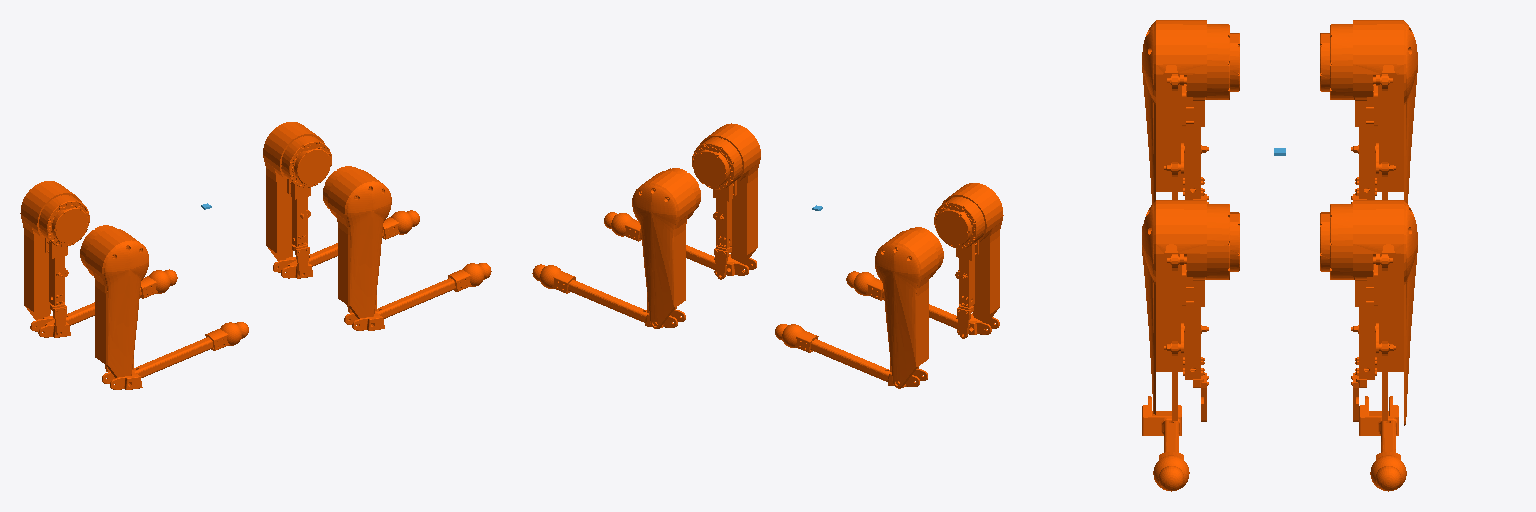
--- Facts derived from the render (not from the file) ---
3 views of the same robot in one strip: view 1: azimuth 30°, elevation 25°; view 2: azimuth 150°, elevation 25°; view 3: azimuth 270°, elevation 25° (orthographic).
Robot: robot — 18 links, 17 joints (12 revolute, 5 fixed); root link base; default pose: all joints at 0 but 4 set to mid-range because 0 is outside their limits (FR_calf_joint = -1.71, FL_calf_joint = -1.71, RR_calf_joint = -1.71, RL_calf_joint = -1.71).
Links seen in each view (by area): view 1: RR_thigh, FL_thigh, FR_thigh, RL_thigh, FR_calf, RR_calf, FL_calf, RL_calf; view 2: RL_thigh, FL_thigh, FR_thigh, RR_thigh, FL_calf, RL_calf, FR_calf, RR_calf; view 3: FL_thigh, FR_thigh, RR_thigh, RL_thigh, FL_calf, FR_calf.
Boxes of the visible links, x1=… form: RR_thigh: x1=80, y1=225, x2=148, y2=377; FL_thigh: x1=263, y1=122, x2=331, y2=277; FR_thigh: x1=323, y1=166, x2=391, y2=318; RL_thigh: x1=20, y1=181, x2=89, y2=336; FR_calf: x1=344, y1=263, x2=483, y2=330; RR_calf: x1=102, y1=322, x2=241, y2=389; FL_calf: x1=273, y1=211, x2=412, y2=278; RL_calf: x1=30, y1=270, x2=170, y2=337; RL_thigh: x1=875, y1=227, x2=943, y2=388; FL_thigh: x1=632, y1=168, x2=700, y2=328; FR_thigh: x1=692, y1=123, x2=760, y2=279; RR_thigh: x1=934, y1=183, x2=1003, y2=338; FL_calf: x1=540, y1=265, x2=685, y2=327; RL_calf: x1=782, y1=324, x2=927, y2=387; FR_calf: x1=611, y1=213, x2=756, y2=275; RR_calf: x1=853, y1=272, x2=999, y2=334; FL_thigh: x1=1320, y1=200, x2=1417, y2=425; FR_thigh: x1=1142, y1=200, x2=1239, y2=421; RR_thigh: x1=1142, y1=20, x2=1239, y2=203; RL_thigh: x1=1320, y1=20, x2=1417, y2=203; FL_calf: x1=1359, y1=396, x2=1406, y2=489; FR_calf: x1=1142, y1=396, x2=1189, y2=489.
Size in the robot's own frame: 0.8762 by 0.3506 by 0.3193 metres.
8 mesh visuals loaded from 5 distinct referenced files (3 Collada DAE); not drawn: 5 (reference not matched to a file when rendering).

The robot description file, URDF, robot "robot":
<?xml version="1.0" ?>
<!-- =================================================================================== -->
<!-- |    This document was autogenerated by xacro from ../robots/quadrupedal_robot/arcdog.xacro | -->
<!-- |    EDITING THIS FILE BY HAND IS NOT RECOMMENDED                                 | -->
<!-- =================================================================================== -->
<robot name="robot">
  <material name="black">
    <color rgba="0.0 0.0 0.0 1.0"/>
  </material>
  <material name="blue">
    <color rgba="0.0 0.0 0.8 1.0"/>
  </material>
  <material name="green">
    <color rgba="0.0 0.8 0.0 1.0"/>
  </material>
  <material name="grey">
    <color rgba="0.2 0.2 0.2 1.0"/>
  </material>
  <material name="silver">
    <color rgba="0.9137254901960784 0.9137254901960784 0.8470588235294118 1.0"/>
  </material>
  <material name="orange">
    <color rgba="1.0 0.4235294117647059 0.0392156862745098 1.0"/>
  </material>
  <material name="brown">
    <color rgba="0.8705882352941177 0.8117647058823529 0.7647058823529411 1.0"/>
  </material>
  <material name="red">
    <color rgba="0.8 0.0 0.0 1.0"/>
  </material>
  <material name="white">
    <color rgba="1.0 1.0 1.0 1.0"/>
  </material>
  <!-- ros_control plugin -->
  <gazebo>
    <plugin filename="libarcdog_hw_sim.so" name="gazebo_ros_control">
      <robotNamespace>/</robotNamespace>
      <robotParam>legged_robot_description</robotParam>
      <robotSimType>arcdog_sim/ArcdogHWSim</robotSimType>
    </plugin>
  </gazebo>
  <gazebo>
    <plugin filename="libgazebo_ros_p3d.so" name="p3d_base_controller">
      <alwaysOn>true</alwaysOn>
      <updateRate>1000.0</updateRate>
      <bodyName>base</bodyName>
      <topicName>ground_truth/state</topicName>
      <gaussianNoise>0</gaussianNoise>
      <frameName>world</frameName>
      <xyzOffsets>0 0 0</xyzOffsets>
      <rpyOffsets>0 0 0</rpyOffsets>
    </plugin>
  </gazebo>
   //TODO
    
   //TODO
    
   //TODO
    
   //TODO

    
   //TODO
    
   //TODO
    
   //TODO
    
   //TODO
    
   //TODO
    
   //TODO

    
   //TODO
    
   //TODO
    
   //TODO

    
  <link name="base">
    <visual>
      <origin rpy="0 0 0" xyz="0 0 0"/>
      <geometry>
        <mesh filename="../meshes/trunk.dae" scale="1 1 1"/>
      </geometry>
    </visual>
    <collision>
      <origin rpy="0 0 0" xyz="0 0 0"/>
      <geometry>
        <box size="0.552 0.121 0.116"/>
      </geometry>
    </collision>
    <inertial>
      <origin rpy="0 0 0" xyz="0.00575 0.00126 -0.00469"/>
      <mass value="7.021"/>
      <inertia ixx="0.03769023916" ixy="1.433761e-05" ixz="0.00051349975" iyy="0.05008788073" iyz="0.00015851764" izz="0.07146322696"/>
    </inertial>
  </link>
  <!-- Imu is fixed to the base link -->
  <joint name="unitree_imu_joint" type="fixed">
    <origin rpy="0. 0. 0." xyz="0. 0. 0."/>
    <parent link="base"/>
    <child link="unitree_imu"/>
  </joint>
  <!-- Imu link -->
  <link name="unitree_imu">
    <inertial>
      <mass value="0.01"/>
      <origin rpy="0 0 0" xyz="0 0 0"/>
      <inertia ixx="0.000001" ixy="0" ixz="0" iyy="0.000001" iyz="0" izz="0.000001"/>
    </inertial>
    <visual>
      <origin rpy="0 0 0" xyz="0 0 0"/>
      <geometry>
        <box size="0.015 0.015 0.004"/>
      </geometry>
    </visual>
    <material name="orange">
      <color rgba="255 108 10 255"/>
    </material>
  </link>
  <gazebo reference="unitree_imu">
    <material>Gazebo/Orange</material>
  </gazebo>
  <gazebo reference="unitree_imu_joint">
    <disableFixedJointLumping>true</disableFixedJointLumping>
  </gazebo>
  <joint name="FR_hip_joint" type="revolute">
    <origin rpy="0 0 0" xyz="0.27 -0.051 0"/>
    <parent link="base"/>
    <child link="FR_hip"/>
    <axis xyz="1 0 0"/>
    <dynamics damping="0.05" friction="0.01"/>
    <limit effort="35.278" lower="-1.2217304763960306" upper="1.2217304763960306" velocity="20"/>
  </joint>
  <link name="FR_hip">
    <visual>
      <origin rpy="3.141592653589793 0 0" xyz="0 0 0"/>
      <geometry>
        <mesh filename="../meshes/hip.dae" scale="1 1 1"/>
      </geometry>
      <material name="orange"/>
    </visual>
    <collision>
      <origin rpy="1.5707963267948966 0 0" xyz="0 0 0"/>
      <geometry>
        <cylinder length="0.001" radius="0.046"/>
      </geometry>
    </collision>
    <inertial>
      <origin rpy="0 0 0" xyz="-0.00758 0.00359 -0.00029"/>
      <mass value="1.162"/>
      <inertia ixx="0.00095157705" ixy="-1.10967e-05" ixz="-2.66665e-06" iyy="0.00159323348" iyz="1.26718e-05" izz="0.00125451931"/>
    </inertial>
  </link>
  <joint name="FR_thigh_joint" type="revolute">
    <origin rpy="0 0 0" xyz="0 -0.0868 0"/>
    <parent link="FR_hip"/>
    <child link="FR_thigh"/>
    <axis xyz="0 1 0"/>
    <dynamics damping="0.05" friction="0.01"/>
    <limit effort="35.278" lower="-1e+22" upper="1e+22" velocity="20"/>
  </joint>
  <link name="FR_thigh">
    <visual>
      <origin rpy="0 0 0" xyz="0 0 0"/>
      <geometry>
        <mesh filename="../meshes/thigh_mirror.dae" scale="1 1 1"/>
      </geometry>
      <material name="orange"/>
    </visual>
    <collision>
      <origin rpy="0 1.6707963267948966 0" xyz="-0.015 0 -0.12225"/>
      <geometry>
        <box size="0.2445 0.062 0.043"/>
      </geometry>
    </collision>
    <collision>
      <origin rpy="1.5707963267948966 0 0" xyz="0 -0.0 0"/>
      <geometry>
        <cylinder length="0.03" radius="0.044"/>
      </geometry>
    </collision>
    <inertial>
      <origin rpy="0 0 0" xyz="0.00033 -0.03334 -0.02983"/>
      <mass value="1.528"/>
      <inertia ixx="0.00884041519" ixy="3.381758e-05" ixz="-5.33686e-05" iyy="0.00784145389" iyz="-0.00128350622" izz="0.0026004502"/>
    </inertial>
  </link>
  <joint name="FR_calf_joint" type="revolute">
    <origin rpy="0 0 0" xyz="0 0 -0.2445"/>
    <parent link="FR_thigh"/>
    <child link="FR_calf"/>
    <axis xyz="0 1 0"/>
    <dynamics damping="0.05" friction="0.01"/>
    <limit effort="44.4" lower="-2.775073510670984" upper="-0.6457718232379019" velocity="15.89"/>
  </joint>
  <link name="FR_calf">
    <visual>
      <origin rpy="0 0 0" xyz="0 0 0"/>
      <geometry>
        <mesh filename="../meshes/calf.dae" scale="1 1 1"/>
      </geometry>
      <material name="orange"/>
    </visual>
    <collision>
      <origin rpy="0 1.5707963267948966 0" xyz="0.008 0 -0.13475"/>
      <geometry>
        <box size="0.2695 0.05 0.03"/>
      </geometry>
    </collision>
    <inertial>
      <origin rpy="0 0 0" xyz="0.0016 0.00438 -0.12232"/>
      <mass value="0.132"/>
      <inertia ixx="0.00228050753" ixy="-3.3551e-07" ixz="8.26635e-06" iyy="0.00225891907" iyz="0.00010727008" izz="5.160443e-05"/>
    </inertial>
  </link>
  <joint dont_collapse="true" name="FR_foot_fixed" type="fixed">
    <origin rpy="0 0 0" xyz="0 0 -0.2695"/>
    <parent link="FR_calf"/>
    <child link="FR_foot"/>
  </joint>
  <link name="FR_foot">
    <visual>
      <origin rpy="0 0 0" xyz="0 0 0"/>
      <geometry>
        <sphere radius="0.0165"/>
      </geometry>
      <material name="orange"/>
    </visual>
    <collision>
      <origin rpy="0 0 0" xyz="0 0 0"/>
      <geometry>
        <sphere radius="0.0265"/>
      </geometry>
    </collision>
    <inertial>
      <mass value="0.06"/>
      <inertia ixx="1.6853999999999998e-05" ixy="0.0" ixz="0.0" iyy="1.6853999999999998e-05" iyz="0.0" izz="1.6853999999999998e-05"/>
    </inertial>
  </link>
  <gazebo reference="FR_foot_fixed">
    <disableFixedJointLumping>true</disableFixedJointLumping>
  </gazebo>
  <gazebo reference="FR_hip">
    <mu1>0.2</mu1>
    <mu2>0.2</mu2>
    <material>Gazebo/DarkGrey</material>
  </gazebo>
  <gazebo reference="FR_thigh">
    <mu1>0.2</mu1>
    <mu2>0.2</mu2>
    <self_collide>0</self_collide>
    <material>Gazebo/DarkGrey</material>
    <kp value="1000000.0"/>
    <kd value="100.0"/>
  </gazebo>
  <gazebo reference="FR_calf">
    <mu1>0.6</mu1>
    <mu2>0.6</mu2>
    <self_collide>1</self_collide>
  </gazebo>
  <gazebo reference="FR_FOOT">
    <mu1>0.6</mu1>
    <mu2>0.6</mu2>
    <self_collide>1</self_collide>
    <material>Gazebo/DarkGrey</material>
    <kp value="1000000.0"/>
    <kd value="100.0"/>
  </gazebo>
  <transmission name="FR_HAA_tran">
    <type>transmission_interface/SimpleTransmission</type>
    <joint name="FR_HAA">
      <hardwareInterface>hardware_interface/EffortJointInterface</hardwareInterface>
    </joint>
    <actuator name="FR_HAA_motor">
      <hardwareInterface>hardware_interface/EffortJointInterface</hardwareInterface>
      <mechanicalReduction>1</mechanicalReduction>
    </actuator>
  </transmission>
  <transmission name="FR_HFE_tran">
    <type>transmission_interface/SimpleTransmission</type>
    <joint name="FR_HFE">
      <hardwareInterface>hardware_interface/EffortJointInterface</hardwareInterface>
    </joint>
    <actuator name="FR_HFE_motor">
      <hardwareInterface>hardware_interface/EffortJointInterface</hardwareInterface>
      <mechanicalReduction>1</mechanicalReduction>
    </actuator>
  </transmission>
  <transmission name="FR_KFE_tran">
    <type>transmission_interface/SimpleTransmission</type>
    <joint name="FR_KFE">
      <hardwareInterface>hardware_interface/EffortJointInterface</hardwareInterface>
    </joint>
    <actuator name="FR_KFE_motor">
      <hardwareInterface>hardware_interface/EffortJointInterface</hardwareInterface>
      <mechanicalReduction>1</mechanicalReduction>
    </actuator>
  </transmission>
  <joint name="FL_hip_joint" type="revolute">
    <origin rpy="0 0 0" xyz="0.27 0.051 0"/>
    <parent link="base"/>
    <child link="FL_hip"/>
    <axis xyz="1 0 0"/>
    <dynamics damping="0.05" friction="0.01"/>
    <limit effort="35.278" lower="-1.2217304763960306" upper="1.2217304763960306" velocity="20"/>
  </joint>
  <link name="FL_hip">
    <visual>
      <origin rpy="0 0 0" xyz="0 0 0"/>
      <geometry>
        <mesh filename="../meshes/hip.dae" scale="1 1 1"/>
      </geometry>
      <material name="orange"/>
    </visual>
    <collision>
      <origin rpy="1.5707963267948966 0 0" xyz="0 0 0"/>
      <geometry>
        <cylinder length="0.001" radius="0.046"/>
      </geometry>
    </collision>
    <inertial>
      <origin rpy="0 0 0" xyz="-0.00758 -0.00359 -0.00029"/>
      <mass value="1.162"/>
      <inertia ixx="0.00095157705" ixy="1.10967e-05" ixz="-2.66665e-06" iyy="0.00159323348" iyz="-1.26718e-05" izz="0.00125451931"/>
    </inertial>
  </link>
  <joint name="FL_thigh_joint" type="revolute">
    <origin rpy="0 0 0" xyz="0 0.0868 0"/>
    <parent link="FL_hip"/>
    <child link="FL_thigh"/>
    <axis xyz="0 1 0"/>
    <dynamics damping="0.05" friction="0.01"/>
    <limit effort="35.278" lower="-1e+22" upper="1e+22" velocity="20"/>
  </joint>
  <link name="FL_thigh">
    <visual>
      <origin rpy="0 0 0" xyz="0 0 0"/>
      <geometry>
        <mesh filename="../meshes/thigh.dae" scale="1 1 1"/>
      </geometry>
      <material name="orange"/>
    </visual>
    <collision>
      <origin rpy="0 1.6707963267948966 0" xyz="-0.015 0 -0.12225"/>
      <geometry>
        <box size="0.2445 0.062 0.043"/>
      </geometry>
    </collision>
    <collision>
      <origin rpy="1.5707963267948966 0 0" xyz="0 0.0 0"/>
      <geometry>
        <cylinder length="0.03" radius="0.044"/>
      </geometry>
    </collision>
    <inertial>
      <origin rpy="0 0 0" xyz="0.00033 0.03334 -0.02983"/>
      <mass value="1.528"/>
      <inertia ixx="0.00884041519" ixy="-3.381758e-05" ixz="-5.33686e-05" iyy="0.00784145389" iyz="0.00128350622" izz="0.0026004502"/>
    </inertial>
  </link>
  <joint name="FL_calf_joint" type="revolute">
    <origin rpy="0 0 0" xyz="0 0 -0.2445"/>
    <parent link="FL_thigh"/>
    <child link="FL_calf"/>
    <axis xyz="0 1 0"/>
    <dynamics damping="0.05" friction="0.01"/>
    <limit effort="44.4" lower="-2.775073510670984" upper="-0.6457718232379019" velocity="15.89"/>
  </joint>
  <link name="FL_calf">
    <visual>
      <origin rpy="0 0 0" xyz="0 0 0"/>
      <geometry>
        <mesh filename="../meshes/calf.dae" scale="1 1 1"/>
      </geometry>
      <material name="orange"/>
    </visual>
    <collision>
      <origin rpy="0 1.5707963267948966 0" xyz="0.008 0 -0.13475"/>
      <geometry>
        <box size="0.2695 0.05 0.03"/>
      </geometry>
    </collision>
    <inertial>
      <origin rpy="0 0 0" xyz="0.0016 0.00438 -0.12232"/>
      <mass value="0.132"/>
      <inertia ixx="0.00228050753" ixy="-3.3551e-07" ixz="8.26635e-06" iyy="0.00225891907" iyz="0.00010727008" izz="5.160443e-05"/>
    </inertial>
  </link>
  <joint dont_collapse="true" name="FL_foot_fixed" type="fixed">
    <origin rpy="0 0 0" xyz="0 0 -0.2695"/>
    <parent link="FL_calf"/>
    <child link="FL_foot"/>
  </joint>
  <link name="FL_foot">
    <visual>
      <origin rpy="0 0 0" xyz="0 0 0"/>
      <geometry>
        <sphere radius="0.0165"/>
      </geometry>
      <material name="orange"/>
    </visual>
    <collision>
      <origin rpy="0 0 0" xyz="0 0 0"/>
      <geometry>
        <sphere radius="0.0265"/>
      </geometry>
    </collision>
    <inertial>
      <mass value="0.06"/>
      <inertia ixx="1.6853999999999998e-05" ixy="0.0" ixz="0.0" iyy="1.6853999999999998e-05" iyz="0.0" izz="1.6853999999999998e-05"/>
    </inertial>
  </link>
  <gazebo reference="FL_foot_fixed">
    <disableFixedJointLumping>true</disableFixedJointLumping>
  </gazebo>
  <gazebo reference="FL_hip">
    <mu1>0.2</mu1>
    <mu2>0.2</mu2>
    <material>Gazebo/DarkGrey</material>
  </gazebo>
  <gazebo reference="FL_thigh">
    <mu1>0.2</mu1>
    <mu2>0.2</mu2>
    <self_collide>0</self_collide>
    <material>Gazebo/DarkGrey</material>
    <kp value="1000000.0"/>
    <kd value="100.0"/>
  </gazebo>
  <gazebo reference="FL_calf">
    <mu1>0.6</mu1>
    <mu2>0.6</mu2>
    <self_collide>1</self_collide>
  </gazebo>
  <gazebo reference="FL_FOOT">
    <mu1>0.6</mu1>
    <mu2>0.6</mu2>
    <self_collide>1</self_collide>
    <material>Gazebo/DarkGrey</material>
    <kp value="1000000.0"/>
    <kd value="100.0"/>
  </gazebo>
  <transmission name="FL_HAA_tran">
    <type>transmission_interface/SimpleTransmission</type>
    <joint name="FL_HAA">
      <hardwareInterface>hardware_interface/EffortJointInterface</hardwareInterface>
    </joint>
    <actuator name="FL_HAA_motor">
      <hardwareInterface>hardware_interface/EffortJointInterface</hardwareInterface>
      <mechanicalReduction>1</mechanicalReduction>
    </actuator>
  </transmission>
  <transmission name="FL_HFE_tran">
    <type>transmission_interface/SimpleTransmission</type>
    <joint name="FL_HFE">
      <hardwareInterface>hardware_interface/EffortJointInterface</hardwareInterface>
    </joint>
    <actuator name="FL_HFE_motor">
      <hardwareInterface>hardware_interface/EffortJointInterface</hardwareInterface>
      <mechanicalReduction>1</mechanicalReduction>
    </actuator>
  </transmission>
  <transmission name="FL_KFE_tran">
    <type>transmission_interface/SimpleTransmission</type>
    <joint name="FL_KFE">
      <hardwareInterface>hardware_interface/EffortJointInterface</hardwareInterface>
    </joint>
    <actuator name="FL_KFE_motor">
      <hardwareInterface>hardware_interface/EffortJointInterface</hardwareInterface>
      <mechanicalReduction>1</mechanicalReduction>
    </actuator>
  </transmission>
  <joint name="RR_hip_joint" type="revolute">
    <origin rpy="0 0 0" xyz="-0.27 -0.051 0"/>
    <parent link="base"/>
    <child link="RR_hip"/>
    <axis xyz="1 0 0"/>
    <dynamics damping="0.05" friction="0.01"/>
    <limit effort="35.278" lower="-1.2217304763960306" upper="1.2217304763960306" velocity="20"/>
  </joint>
  <link name="RR_hip">
    <visual>
      <origin rpy="3.141592653589793 3.141592653589793 0" xyz="0 0 0"/>
      <geometry>
        <mesh filename="../meshes/hip.dae" scale="1 1 1"/>
      </geometry>
      <material name="orange"/>
    </visual>
    <collision>
      <origin rpy="1.5707963267948966 0 0" xyz="0 0 0"/>
      <geometry>
        <cylinder length="0.001" radius="0.046"/>
      </geometry>
    </collision>
    <inertial>
      <origin rpy="0 0 0" xyz="0.00758 0.00359 -0.00029"/>
      <mass value="1.162"/>
      <inertia ixx="0.00095157705" ixy="1.10967e-05" ixz="2.66665e-06" iyy="0.00159323348" iyz="1.26718e-05" izz="0.00125451931"/>
    </inertial>
  </link>
  <joint name="RR_thigh_joint" type="revolute">
    <origin rpy="0 0 0" xyz="0 -0.0868 0"/>
    <parent link="RR_hip"/>
    <child link="RR_thigh"/>
    <axis xyz="0 1 0"/>
    <dynamics damping="0.05" friction="0.01"/>
    <limit effort="35.278" lower="-1e+22" upper="1e+22" velocity="20"/>
  </joint>
  <link name="RR_thigh">
    <visual>
      <origin rpy="0 0 0" xyz="0 0 0"/>
      <geometry>
        <mesh filename="../meshes/thigh_mirror.dae" scale="1 1 1"/>
      </geometry>
      <material name="orange"/>
    </visual>
    <collision>
      <origin rpy="0 1.6707963267948966 0" xyz="-0.015 0 -0.12225"/>
      <geometry>
        <box size="0.2445 0.062 0.043"/>
      </geometry>
    </collision>
    <collision>
      <origin rpy="1.5707963267948966 0 0" xyz="0 -0.0 0"/>
      <geometry>
        <cylinder length="0.03" radius="0.044"/>
      </geometry>
    </collision>
    <inertial>
      <origin rpy="0 0 0" xyz="0.00033 -0.03334 -0.02983"/>
      <mass value="1.528"/>
      <inertia ixx="0.00884041519" ixy="3.381758e-05" ixz="-5.33686e-05" iyy="0.00784145389" iyz="-0.00128350622" izz="0.0026004502"/>
    </inertial>
  </link>
  <joint name="RR_calf_joint" type="revolute">
    <origin rpy="0 0 0" xyz="0 0 -0.2445"/>
    <parent link="RR_thigh"/>
    <child link="RR_calf"/>
    <axis xyz="0 1 0"/>
    <dynamics damping="0.05" friction="0.01"/>
    <limit effort="44.4" lower="-2.775073510670984" upper="-0.6457718232379019" velocity="15.89"/>
  </joint>
  <link name="RR_calf">
    <visual>
      <origin rpy="0 0 0" xyz="0 0 0"/>
      <geometry>
        <mesh filename="../meshes/calf.dae" scale="1 1 1"/>
      </geometry>
      <material name="orange"/>
    </visual>
    <collision>
      <origin rpy="0 1.5707963267948966 0" xyz="0.008 0 -0.13475"/>
      <geometry>
        <box size="0.2695 0.05 0.03"/>
      </geometry>
    </collision>
    <inertial>
      <origin rpy="0 0 0" xyz="0.0016 0.00438 -0.12232"/>
      <mass value="0.132"/>
      <inertia ixx="0.00228050753" ixy="-3.3551e-07" ixz="8.26635e-06" iyy="0.00225891907" iyz="0.00010727008" izz="5.160443e-05"/>
    </inertial>
  </link>
  <joint dont_collapse="true" name="RR_foot_fixed" type="fixed">
    <origin rpy="0 0 0" xyz="0 0 -0.2695"/>
    <parent link="RR_calf"/>
    <child link="RR_foot"/>
  </joint>
  <link name="RR_foot">
    <visual>
      <origin rpy="0 0 0" xyz="0 0 0"/>
      <geometry>
        <sphere radius="0.0165"/>
      </geometry>
      <material name="orange"/>
    </visual>
    <collision>
      <origin rpy="0 0 0" xyz="0 0 0"/>
      <geometry>
        <sphere radius="0.0265"/>
      </geometry>
    </collision>
    <inertial>
      <mass value="0.06"/>
      <inertia ixx="1.6853999999999998e-05" ixy="0.0" ixz="0.0" iyy="1.6853999999999998e-05" iyz="0.0" izz="1.6853999999999998e-05"/>
    </inertial>
  </link>
  <gazebo reference="RR_foot_fixed">
    <disableFixedJointLumping>true</disableFixedJointLumping>
  </gazebo>
  <gazebo reference="RR_hip">
    <mu1>0.2</mu1>
    <mu2>0.2</mu2>
    <material>Gazebo/DarkGrey</material>
  </gazebo>
  <gazebo reference="RR_thigh">
    <mu1>0.2</mu1>
    <mu2>0.2</mu2>
    <self_collide>0</self_collide>
    <material>Gazebo/DarkGrey</material>
    <kp value="1000000.0"/>
    <kd value="100.0"/>
  </gazebo>
  <gazebo reference="RR_calf">
    <mu1>0.6</mu1>
    <mu2>0.6</mu2>
    <self_collide>1</self_collide>
  </gazebo>
  <gazebo reference="RR_FOOT">
    <mu1>0.6</mu1>
    <mu2>0.6</mu2>
    <self_collide>1</self_collide>
    <material>Gazebo/DarkGrey</material>
    <kp value="1000000.0"/>
    <kd value="100.0"/>
  </gazebo>
  <transmission name="RR_HAA_tran">
    <type>transmission_interface/SimpleTransmission</type>
    <joint name="RR_HAA">
      <hardwareInterface>hardware_interface/EffortJointInterface</hardwareInterface>
    </joint>
    <actuator name="RR_HAA_motor">
      <hardwareInterface>hardware_interface/EffortJointInterface</hardwareInterface>
      <mechanicalReduction>1</mechanicalReduction>
    </actuator>
  </transmission>
  <transmission name="RR_HFE_tran">
    <type>transmission_interface/SimpleTransmission</type>
    <joint name="RR_HFE">
      <hardwareInterface>hardware_interface/EffortJointInterface</hardwareInterface>
    </joint>
    <actuator name="RR_HFE_motor">
      <hardwareInterface>hardware_interface/EffortJointInterface</hardwareInterface>
      <mechanicalReduction>1</mechanicalReduction>
    </actuator>
  </transmission>
  <transmission name="RR_KFE_tran">
    <type>transmission_interface/SimpleTransmission</type>
    <joint name="RR_KFE">
      <hardwareInterface>hardware_interface/EffortJointInterface</hardwareInterface>
    </joint>
    <actuator name="RR_KFE_motor">
      <hardwareInterface>hardware_interface/EffortJointInterface</hardwareInterface>
      <mechanicalReduction>1</mechanicalReduction>
    </actuator>
  </transmission>
  <joint name="RL_hip_joint" type="revolute">
    <origin rpy="0 0 0" xyz="-0.27 0.051 0"/>
    <parent link="base"/>
    <child link="RL_hip"/>
    <axis xyz="1 0 0"/>
    <dynamics damping="0.05" friction="0.01"/>
    <limit effort="35.278" lower="-1.2217304763960306" upper="1.2217304763960306" velocity="20"/>
  </joint>
  <link name="RL_hip">
    <visual>
      <origin rpy="0 3.141592653589793 0" xyz="0 0 0"/>
      <geometry>
        <mesh filename="../meshes/hip.dae" scale="1 1 1"/>
      </geometry>
      <material name="orange"/>
    </visual>
    <collision>
      <origin rpy="1.5707963267948966 0 0" xyz="0 0 0"/>
      <geometry>
        <cylinder length="0.001" radius="0.046"/>
      </geometry>
    </collision>
    <inertial>
      <origin rpy="0 0 0" xyz="0.00758 -0.00359 -0.00029"/>
      <mass value="1.162"/>
      <inertia ixx="0.00095157705" ixy="-1.10967e-05" ixz="2.66665e-06" iyy="0.00159323348" iyz="-1.26718e-05" izz="0.00125451931"/>
    </inertial>
  </link>
  <joint name="RL_thigh_joint" type="revolute">
    <origin rpy="0 0 0" xyz="0 0.0868 0"/>
    <parent link="RL_hip"/>
    <child link="RL_thigh"/>
    <axis xyz="0 1 0"/>
    <dynamics damping="0.05" friction="0.01"/>
    <limit effort="35.278" lower="-1e+22" upper="1e+22" velocity="20"/>
  </joint>
  <link name="RL_thigh">
    <visual>
      <origin rpy="0 0 0" xyz="0 0 0"/>
      <geometry>
        <mesh filename="../meshes/thigh.dae" scale="1 1 1"/>
      </geometry>
      <material name="orange"/>
    </visual>
    <collision>
      <origin rpy="0 1.6707963267948966 0" xyz="-0.015 0 -0.12225"/>
      <geometry>
        <box size="0.2445 0.062 0.043"/>
      </geometry>
    </collision>
    <collision>
      <origin rpy="1.5707963267948966 0 0" xyz="0 0.0 0"/>
      <geometry>
        <cylinder length="0.03" radius="0.044"/>
      </geometry>
    </collision>
    <inertial>
      <origin rpy="0 0 0" xyz="0.00033 0.03334 -0.02983"/>
      <mass value="1.528"/>
      <inertia ixx="0.00884041519" ixy="-3.381758e-05" ixz="-5.33686e-05" iyy="0.00784145389" iyz="0.00128350622" izz="0.0026004502"/>
    </inertial>
  </link>
  <joint name="RL_calf_joint" type="revolute">
    <origin rpy="0 0 0" xyz="0 0 -0.2445"/>
    <parent link="RL_thigh"/>
    <child link="RL_calf"/>
    <axis xyz="0 1 0"/>
    <dynamics damping="0.05" friction="0.01"/>
    <limit effort="44.4" lower="-2.775073510670984" upper="-0.6457718232379019" velocity="15.89"/>
  </joint>
  <link name="RL_calf">
    <visual>
      <origin rpy="0 0 0" xyz="0 0 0"/>
      <geometry>
        <mesh filename="../meshes/calf.dae" scale="1 1 1"/>
      </geometry>
      <material name="orange"/>
    </visual>
    <collision>
      <origin rpy="0 1.5707963267948966 0" xyz="0.008 0 -0.13475"/>
      <geometry>
        <box size="0.2695 0.05 0.03"/>
      </geometry>
    </collision>
    <inertial>
      <origin rpy="0 0 0" xyz="0.0016 0.00438 -0.12232"/>
      <mass value="0.132"/>
      <inertia ixx="0.00228050753" ixy="-3.3551e-07" ixz="8.26635e-06" iyy="0.00225891907" iyz="0.00010727008" izz="5.160443e-05"/>
    </inertial>
  </link>
  <joint dont_collapse="true" name="RL_foot_fixed" type="fixed">
    <origin rpy="0 0 0" xyz="0 0 -0.2695"/>
    <parent link="RL_calf"/>
    <child link="RL_foot"/>
  </joint>
  <link name="RL_foot">
    <visual>
      <origin rpy="0 0 0" xyz="0 0 0"/>
      <geometry>
        <sphere radius="0.0165"/>
      </geometry>
      <material name="orange"/>
    </visual>
    <collision>
      <origin rpy="0 0 0" xyz="0 0 0"/>
      <geometry>
        <sphere radius="0.0265"/>
      </geometry>
    </collision>
    <inertial>
      <mass value="0.06"/>
      <inertia ixx="1.6853999999999998e-05" ixy="0.0" ixz="0.0" iyy="1.6853999999999998e-05" iyz="0.0" izz="1.6853999999999998e-05"/>
    </inertial>
  </link>
  <gazebo reference="RL_foot_fixed">
    <disableFixedJointLumping>true</disableFixedJointLumping>
  </gazebo>
  <gazebo reference="RL_hip">
    <mu1>0.2</mu1>
    <mu2>0.2</mu2>
    <material>Gazebo/DarkGrey</material>
  </gazebo>
  <gazebo reference="RL_thigh">
    <mu1>0.2</mu1>
    <mu2>0.2</mu2>
    <self_collide>0</self_collide>
    <material>Gazebo/DarkGrey</material>
    <kp value="1000000.0"/>
    <kd value="100.0"/>
  </gazebo>
  <gazebo reference="RL_calf">
    <mu1>0.6</mu1>
    <mu2>0.6</mu2>
    <self_collide>1</self_collide>
  </gazebo>
  <gazebo reference="RL_FOOT">
    <mu1>0.6</mu1>
    <mu2>0.6</mu2>
    <self_collide>1</self_collide>
    <material>Gazebo/DarkGrey</material>
    <kp value="1000000.0"/>
    <kd value="100.0"/>
  </gazebo>
  <transmission name="RL_HAA_tran">
    <type>transmission_interface/SimpleTransmission</type>
    <joint name="RL_HAA">
      <hardwareInterface>hardware_interface/EffortJointInterface</hardwareInterface>
    </joint>
    <actuator name="RL_HAA_motor">
      <hardwareInterface>hardware_interface/EffortJointInterface</hardwareInterface>
      <mechanicalReduction>1</mechanicalReduction>
    </actuator>
  </transmission>
  <transmission name="RL_HFE_tran">
    <type>transmission_interface/SimpleTransmission</type>
    <joint name="RL_HFE">
      <hardwareInterface>hardware_interface/EffortJointInterface</hardwareInterface>
    </joint>
    <actuator name="RL_HFE_motor">
      <hardwareInterface>hardware_interface/EffortJointInterface</hardwareInterface>
      <mechanicalReduction>1</mechanicalReduction>
    </actuator>
  </transmission>
  <transmission name="RL_KFE_tran">
    <type>transmission_interface/SimpleTransmission</type>
    <joint name="RL_KFE">
      <hardwareInterface>hardware_interface/EffortJointInterface</hardwareInterface>
    </joint>
    <actuator name="RL_KFE_motor">
      <hardwareInterface>hardware_interface/EffortJointInterface</hardwareInterface>
      <mechanicalReduction>1</mechanicalReduction>
    </actuator>
  </transmission>
</robot>
